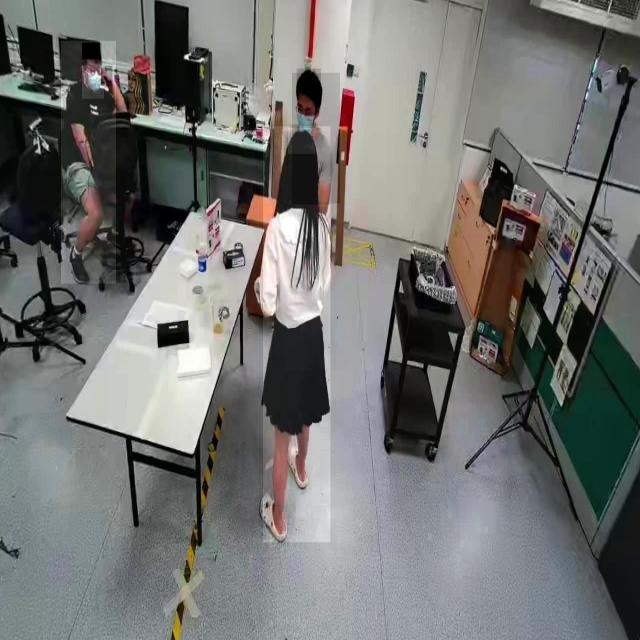face_mask: (296, 102, 317, 142), (82, 66, 104, 100)
hand_noglove: (101, 66, 113, 87)
head_nohelmet: (288, 128, 316, 155), (296, 68, 322, 95), (82, 42, 102, 61)
person: (263, 126, 331, 543), (61, 41, 117, 284), (292, 73, 340, 204)
